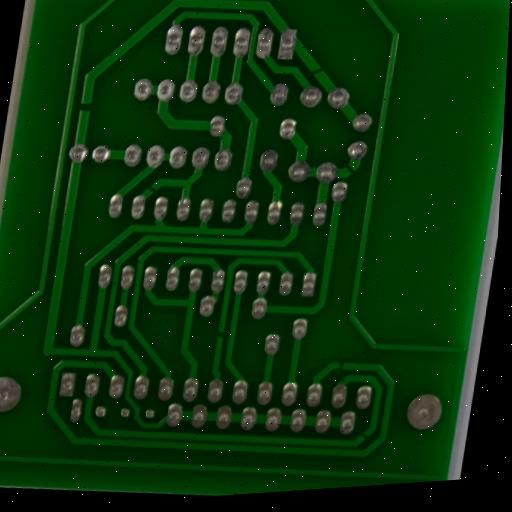open_circuit: (304, 59, 327, 80), (338, 158, 358, 179), (355, 427, 372, 445), (211, 325, 227, 344), (333, 356, 349, 375), (144, 181, 160, 197)
